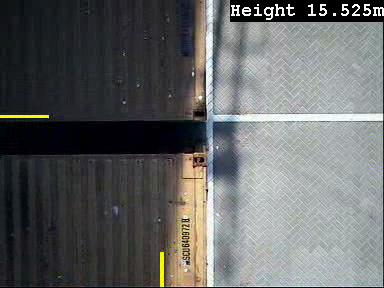groundmarker_2: (204, 85, 253, 151)
